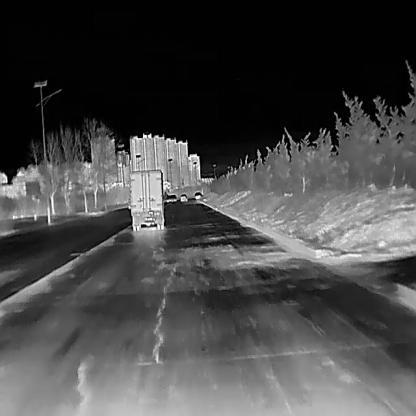car: (128, 167, 166, 231), (168, 193, 176, 201), (180, 193, 188, 201), (193, 191, 202, 198)
